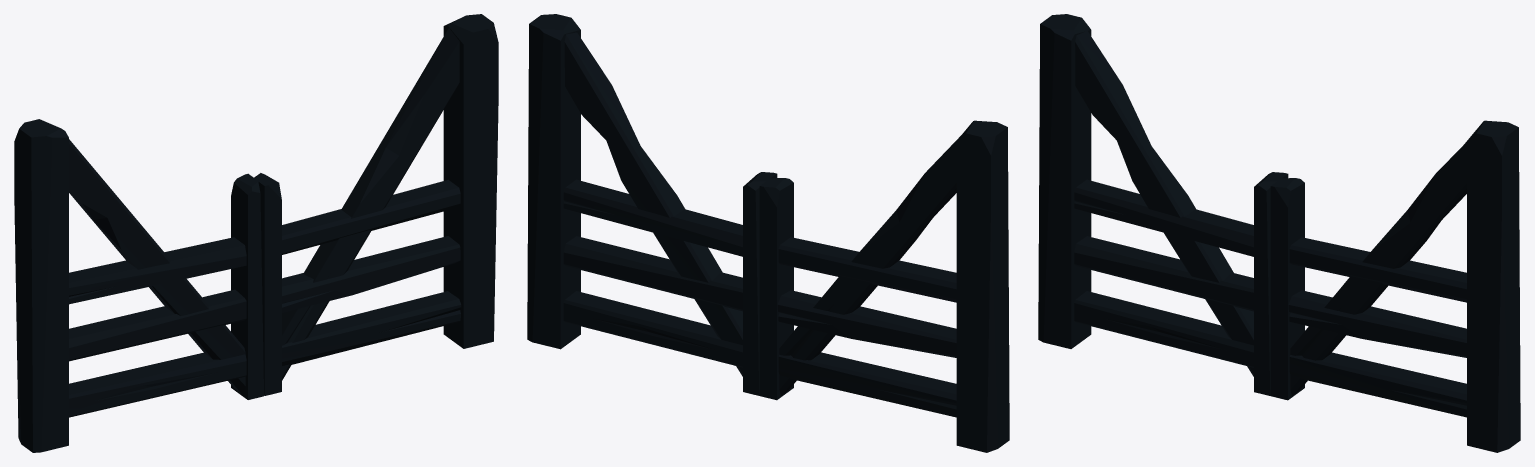
The model's file is Fence_4_1.fbx.
3 views of the same model, side by side, from view 1: azimuth 30°, elevation 25°; view 2: azimuth 150°, elevation 25°; view 3: azimuth 330°, elevation 25° (orthographic).
Visible parts, largest first — view 1: Fence_4_1; view 2: Fence_4_1; view 3: Fence_4_1.
Boxes of the visible parts, bbox=[...] form: Fence_4_1: bbox=[14, 14, 498, 452]; Fence_4_1: bbox=[527, 14, 1009, 452]; Fence_4_1: bbox=[1038, 14, 1520, 452].
Bounding box in the file's own units: 63.5 × 41.05 × 4.85.
